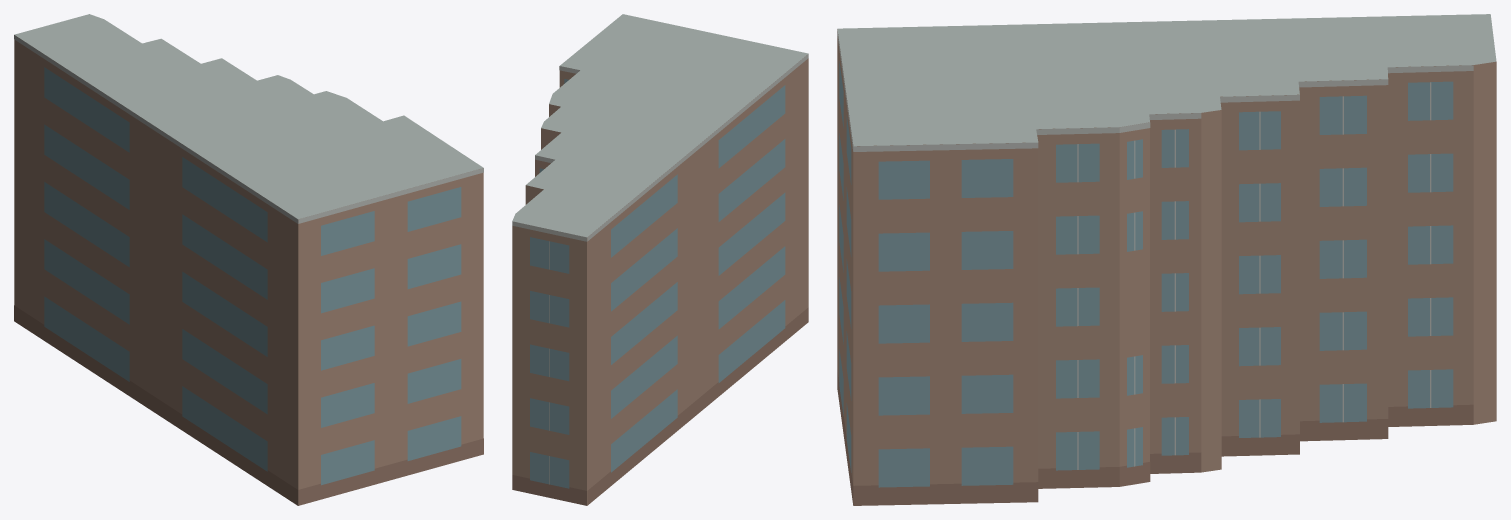
File: survey-upis-32639796.glb
The picture shows the model from 3 angles, left to right: view 1: azimuth 30°, elevation 25°; view 2: azimuth 150°, elevation 25°; view 3: azimuth 270°, elevation 25°; orthographic projection. The views are drawn at different scales.
Parts seen in each view (by area): view 1: survey-upis-32639796.tmp; view 2: survey-upis-32639796.tmp; view 3: survey-upis-32639796.tmp.
Boxes of the visible parts, x1=… form: survey-upis-32639796.tmp: x1=14, y1=14, x2=483, y2=505; survey-upis-32639796.tmp: x1=512, y1=14, x2=808, y2=505; survey-upis-32639796.tmp: x1=837, y1=14, x2=1496, y2=505.
Bounding box in the file's own units: 11.75 × 14.9 × 24.76.
